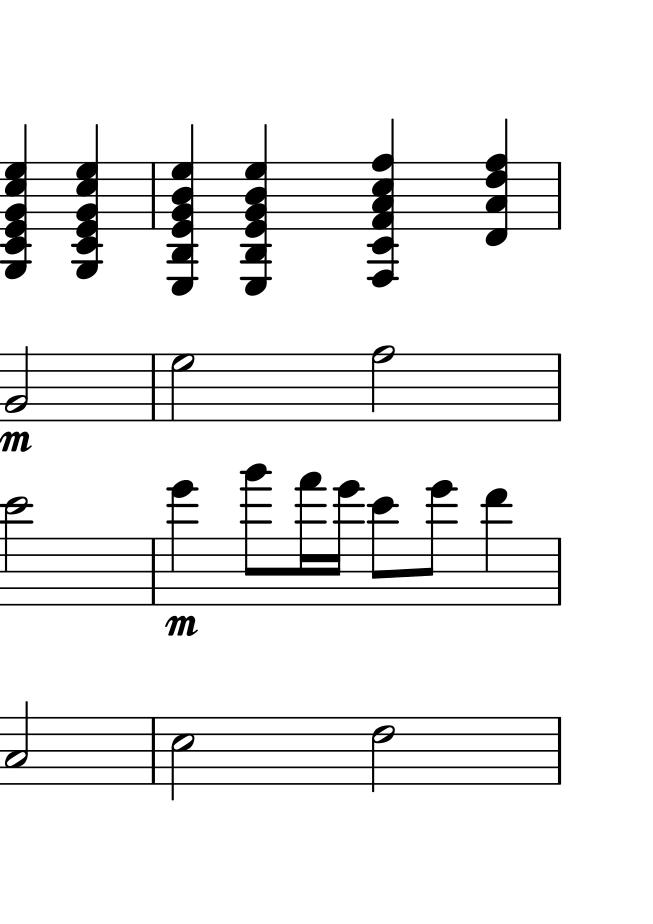16_14: (329, 480, 365, 608)
16_15: (297, 471, 326, 608)
2_12: (1, 495, 32, 608)
2_2: (6, 343, 31, 422)
2_3: (6, 700, 32, 788)
2_5: (169, 714, 196, 803)
2_6: (369, 717, 396, 794)
2_7: (170, 352, 195, 426)
2_8: (370, 344, 398, 425)
4_13: (482, 488, 511, 609)
4_14: (168, 478, 197, 608)
8_12: (368, 496, 401, 608)
8_14: (416, 480, 456, 607)
8_16: (241, 463, 273, 608)
Single_barline: (144, 354, 163, 422), (549, 162, 567, 229), (144, 717, 162, 783), (549, 354, 567, 420), (549, 718, 566, 785), (550, 538, 567, 604), (145, 538, 161, 605), (145, 161, 161, 228)
m: (1, 426, 33, 460), (164, 612, 199, 641)
